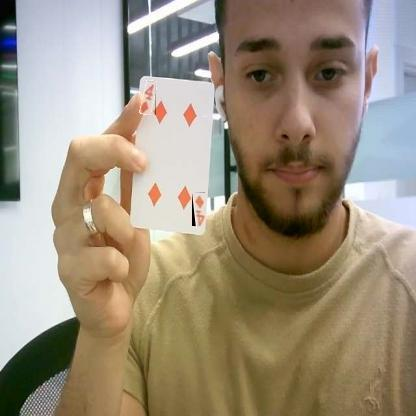4D: (141, 81, 156, 115), (192, 192, 205, 226)
